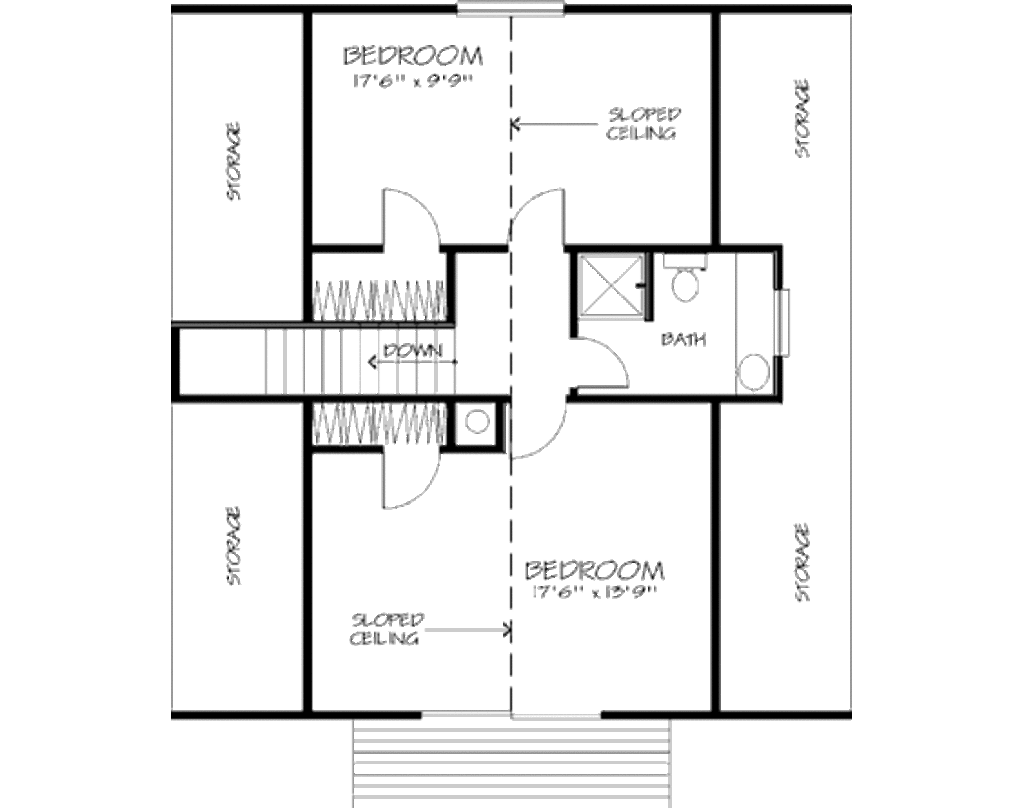door: (371, 178, 447, 257), (565, 333, 642, 393), (506, 189, 569, 247), (383, 449, 438, 512), (509, 402, 569, 458)
large_sink: (664, 254, 707, 311)
stairs: (176, 321, 509, 399)
window: (453, 1, 573, 20), (770, 285, 791, 359)
